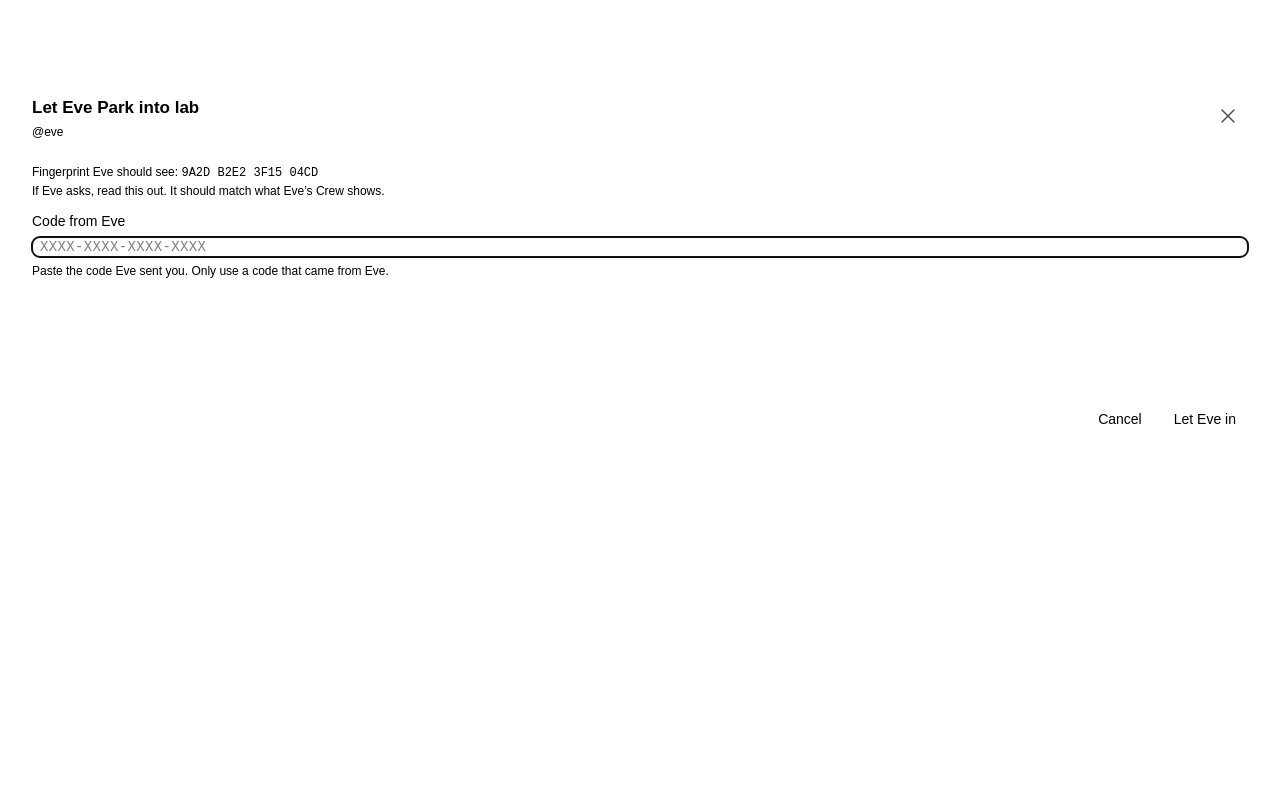
Scenario: LetInDialog, in an open workspace (OW-3) › keeps a managed workspace’s team offer and hint
Type "7QK2M9XA3JTPWZ4D" into the field labelled "Code from Eve".
click(640, 247); type("7QK2M9XA3JTPWZ4D")  # box [32,237,1248,257]
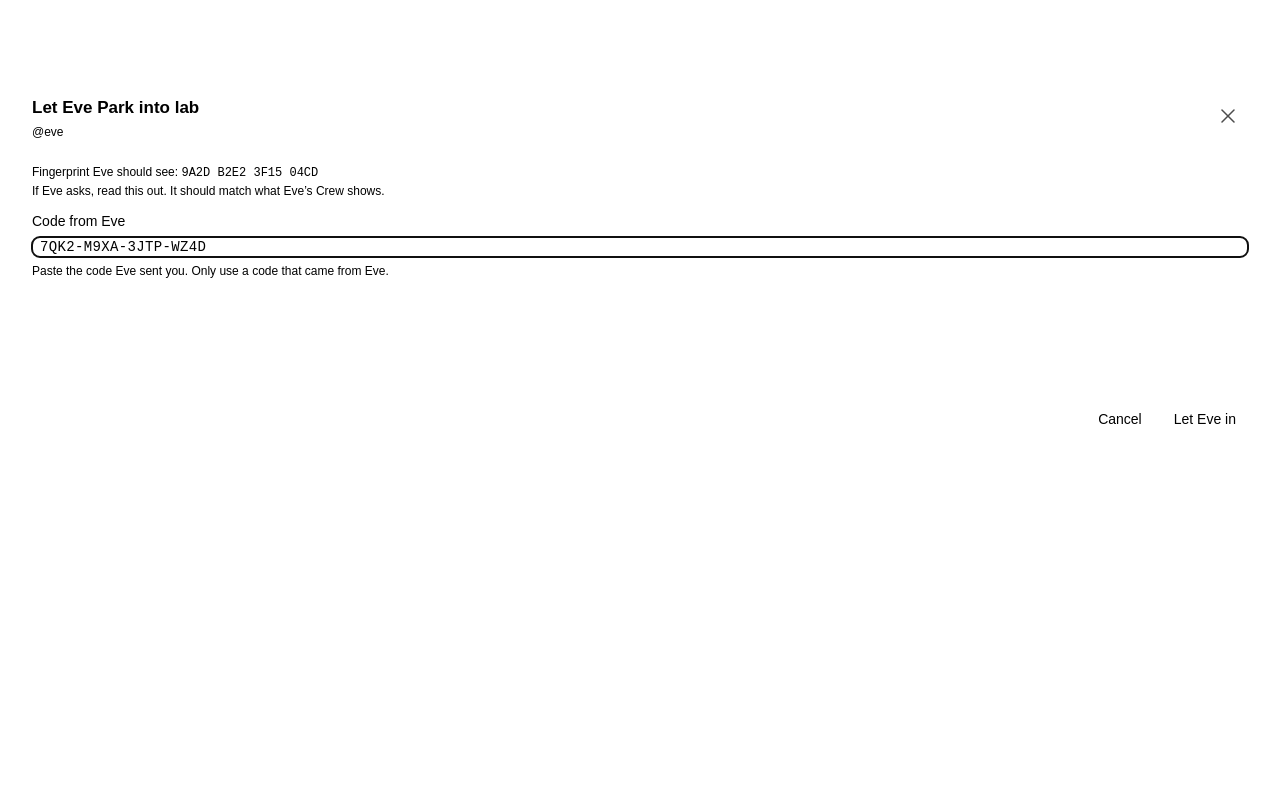
Click the button "Let Eve in".
click(1205, 419)  # box [1162,409,1248,429]
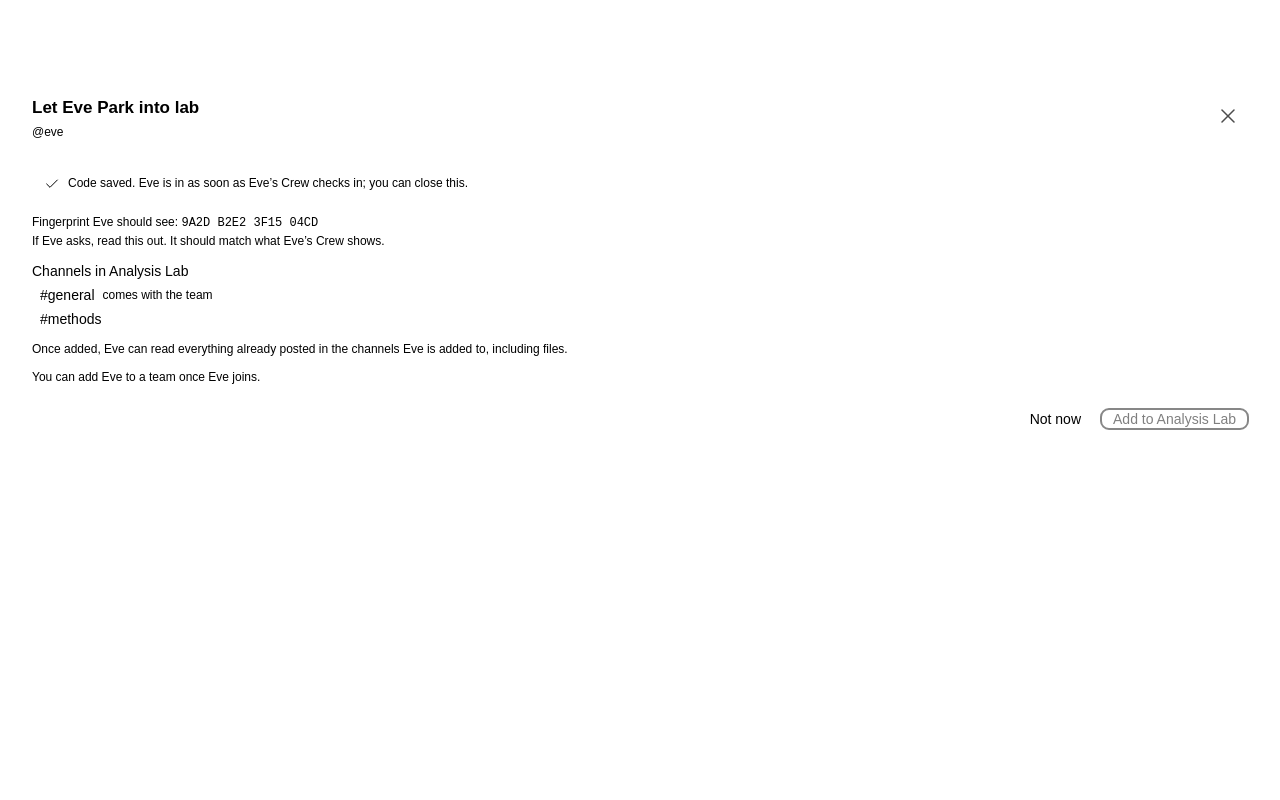
Now the text "Code saved. Eve is in as soon as Eve’s Crew checks in; you can close this." is shown, box [68,176,468,190]
Now the button "Add to Analysis Lab" is shown, box [1101,409,1248,429]
